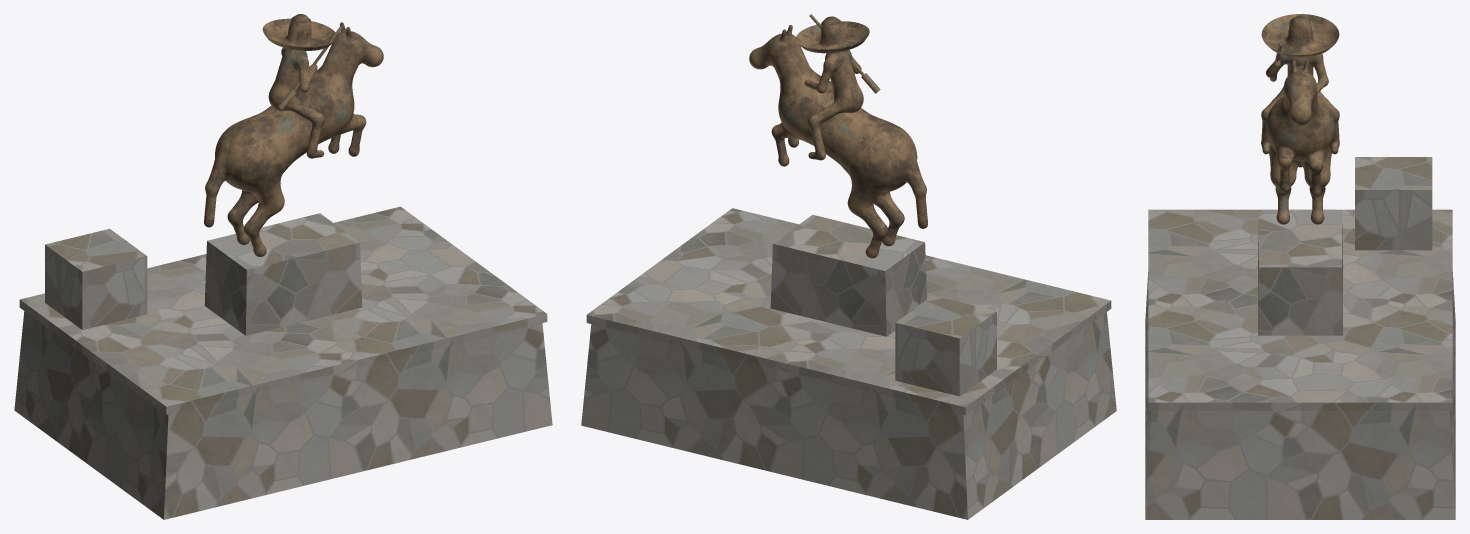
Rendered from estatua_ecuestre.obj.
The picture shows the model from 3 angles, left to right: view 1: azimuth 30°, elevation 25°; view 2: azimuth 150°, elevation 25°; view 3: azimuth 270°, elevation 25°; orthographic projection. The views are drawn at different scales.
Parts seen in each view (by area): view 1: Pedestal, Cornisa, Zocalo, Caballo, Bloque_lateral, Jinete, Sombrero; view 2: Pedestal, Cornisa, Zocalo, Caballo, Bloque_lateral, Jinete, Sombrero; view 3: Cornisa, Pedestal, Zocalo, Bloque_lateral, Caballo, Sombrero, Jinete.
Part boxes in pixels (bbox=[...]): Pedestal: bbox=[14, 311, 552, 519]; Cornisa: bbox=[19, 206, 547, 414]; Zocalo: bbox=[204, 213, 362, 335]; Caballo: bbox=[204, 22, 383, 256]; Bloque_lateral: bbox=[45, 228, 147, 329]; Jinete: bbox=[268, 47, 324, 158]; Sombrero: bbox=[262, 14, 336, 50]; Pedestal: bbox=[581, 312, 1116, 519]; Cornisa: bbox=[586, 208, 1111, 415]; Zocalo: bbox=[770, 214, 926, 336]; Caballo: bbox=[749, 25, 927, 258]; Bloque_lateral: bbox=[895, 295, 996, 396]; Jinete: bbox=[804, 50, 863, 160]; Sombrero: bbox=[795, 16, 869, 53]; Cornisa: bbox=[1148, 209, 1452, 410]; Pedestal: bbox=[1145, 272, 1455, 519]; Zocalo: bbox=[1258, 210, 1342, 335]; Bloque_lateral: bbox=[1355, 157, 1432, 250]; Caballo: bbox=[1266, 60, 1334, 224]; Sombrero: bbox=[1261, 14, 1339, 57]; Jinete: bbox=[1261, 54, 1339, 154].
Size of the model in its own units: 6 by 5.87 by 4.
Materials: 2 (2 with a texture image).
